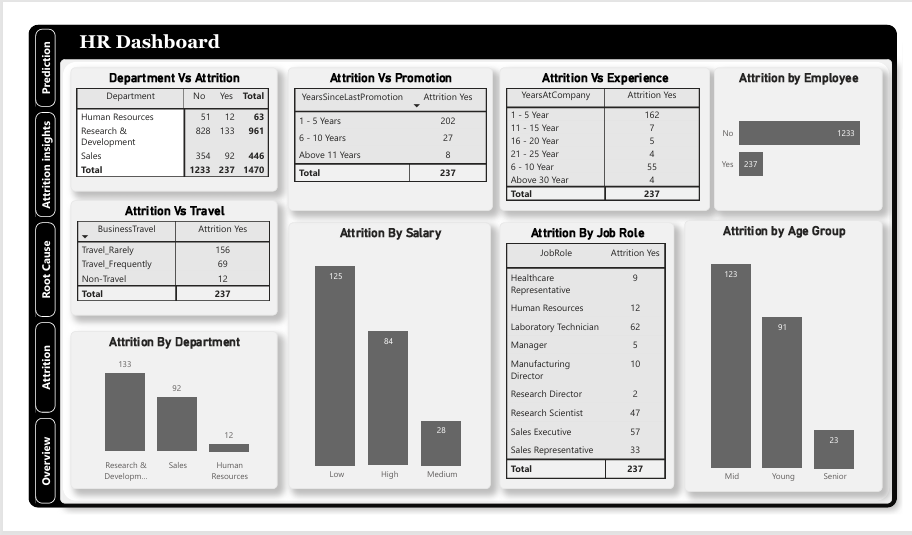

The dashboard page shown, as its layout file describes it:
{"tool":"powerbi","page":{"name":"Attrition Root Cause","canvas":[1280,720],"ordinal":2},"visuals":[{"type":"shape","box":[12.5,9,1259.1,701.2],"z":0},{"type":"shape","box":[59.1,59.1,1206.3,644.8],"z":1000},{"type":"shape","box":[74.3,8.6,228.6,50],"z":2000},{"type":"actionButton","box":[23.3,580.3,28.7,123.6],"z":3000},{"type":"actionButton","box":[23.3,440.6,28.7,131.6],"z":4000},{"type":"actionButton","box":[23.3,296.4,28.7,136.1],"z":5000},{"type":"actionButton","box":[23.3,136.1,28.7,152.2],"z":6000},{"type":"actionButton","box":[23.3,15.2,28.7,112.8],"z":7000},{"type":"pivotTable","title":"Department Vs Attrition","fields":{"Rows":["DIM_Department.Department"],"Columns":["FACT_Employee_Records.Attrition"],"Values":["Key-Measures.Employees"]},"box":[74.3,71.4,300,180],"z":8000},{"type":"tableEx","title":"Attrition Vs Travel","fields":{"Values":["FACT_Employee_Records.BusinessTravel","Key-Measures.Attrition Yes"]},"box":[74.3,264.3,300,167.1],"z":9000},{"type":"columnChart","title":"Attrition By Department","fields":{"Category":["DIM_Department.Department"],"Y":["Key-Measures.Attrition Yes"]},"box":[74.3,454.3,300,228.6],"z":10000},{"type":"columnChart","title":"Attrition By Salary","fields":{"Y":["Key-Measures.Attrition Yes"],"Category":["FACT_Employee_Records.Salary Band New"]},"box":[390,295.7,292.9,387.1],"z":11000},{"type":"tableEx","title":"Attrition Vs Promotion","fields":{"Values":["FACT_Employee_Records.YearsSinceLastPromotion (groups)","Key-Measures.Attrition Yes"]},"box":[388.6,71.4,297.1,207.1],"z":12000},{"type":"tableEx","title":"Attrition Vs Experience","fields":{"Values":["FACT_Employee_Records.YearsAtCompany (groups)","Key-Measures.Attrition Yes"]},"box":[695.7,71.4,305.7,207.1],"z":13000},{"type":"tableEx","title":"Attrition By Job Role","fields":{"Values":["DIM_Employee.JobRole","Key-Measures.Attrition Yes"]},"box":[695.7,295.7,252.9,387.1],"z":14000},{"type":"barChart","title":"Attrition by Employee","fields":{"Category":["FACT_Employee_Records.Attrition"],"Y":["Key-Measures.Employees"]},"box":[1007.1,71.4,244.3,207.1],"z":15000},{"type":"columnChart","title":"Attrition by Age Group","fields":{"Y":["Key-Measures.Attrition Yes"],"Category":["DIM_Employee.Age Group"]},"box":[964.3,292.9,287.1,394.3],"z":16000}]}

Visuals, with their boxes on the page's 1280x720 design canvas (x1, y1, x2, y2). These are canvas units, not pixel positions in the 912x535 screenshot, which may show the page scaled, cropped or inside an application window:
shape: {"x1": 12, "y1": 9, "x2": 1272, "y2": 710}
shape: {"x1": 59, "y1": 59, "x2": 1265, "y2": 704}
shape: {"x1": 74, "y1": 9, "x2": 303, "y2": 59}
actionButton: {"x1": 23, "y1": 580, "x2": 52, "y2": 704}
actionButton: {"x1": 23, "y1": 441, "x2": 52, "y2": 572}
actionButton: {"x1": 23, "y1": 296, "x2": 52, "y2": 432}
actionButton: {"x1": 23, "y1": 136, "x2": 52, "y2": 288}
actionButton: {"x1": 23, "y1": 15, "x2": 52, "y2": 128}
"Department Vs Attrition" pivotTable: {"x1": 74, "y1": 71, "x2": 374, "y2": 251}
"Attrition Vs Travel" tableEx: {"x1": 74, "y1": 264, "x2": 374, "y2": 431}
"Attrition By Department" columnChart: {"x1": 74, "y1": 454, "x2": 374, "y2": 683}
"Attrition By Salary" columnChart: {"x1": 390, "y1": 296, "x2": 683, "y2": 683}
"Attrition Vs Promotion" tableEx: {"x1": 389, "y1": 71, "x2": 686, "y2": 278}
"Attrition Vs Experience" tableEx: {"x1": 696, "y1": 71, "x2": 1001, "y2": 278}
"Attrition By Job Role" tableEx: {"x1": 696, "y1": 296, "x2": 949, "y2": 683}
"Attrition by Employee" barChart: {"x1": 1007, "y1": 71, "x2": 1251, "y2": 278}
"Attrition by Age Group" columnChart: {"x1": 964, "y1": 293, "x2": 1251, "y2": 687}
